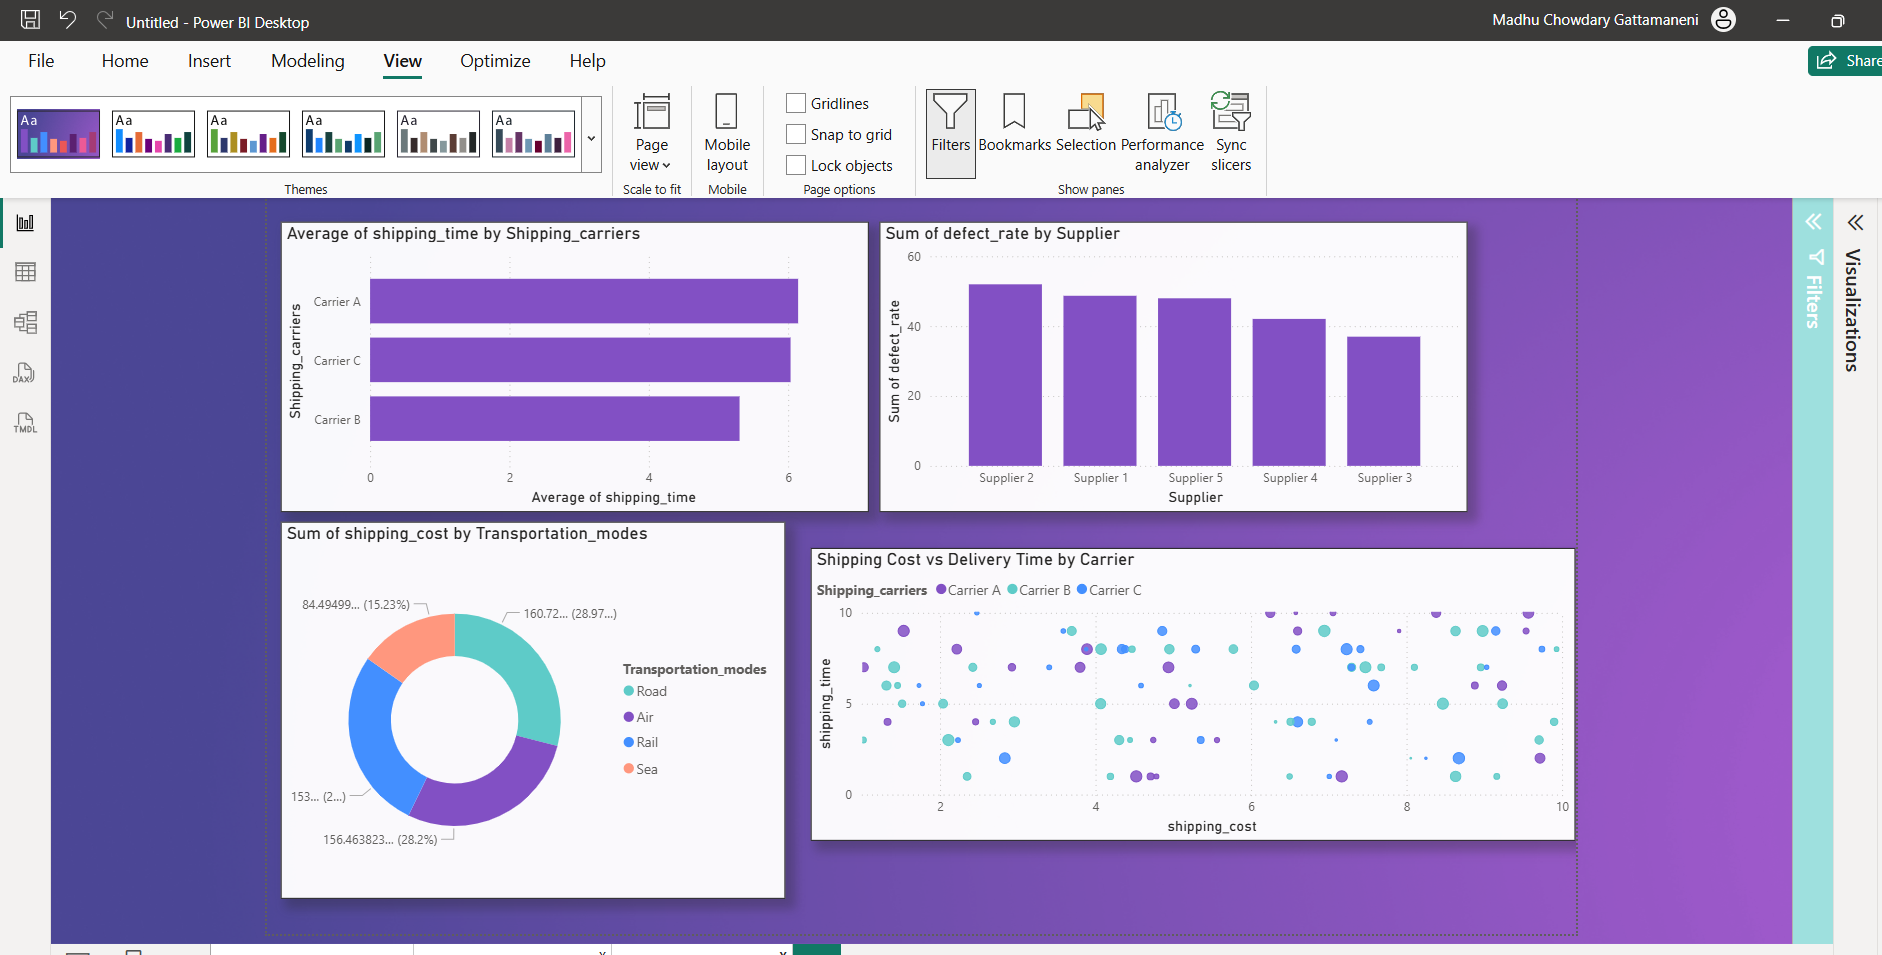

Layout of this report page (visuals, bound fields, positions):
{"tool":"powerbi","page":{"name":"Logistics&Shipping","canvas":[1280,720],"ordinal":2},"visuals":[{"type":"clusteredBarChart","fields":{"Category":["supply_chain_data.Shipping_carriers"],"Y":["Avg(supply_chain_data.shipping_time)"]},"box":[13.7,23.3,575,284],"z":0},{"type":"donutChart","fields":{"Y":["Sum(supply_chain_data.shipping_cost)"],"Category":["supply_chain_data.Transportation_modes"]},"box":[13.7,317,494,369.1],"z":1},{"type":"clusteredColumnChart","fields":{"Category":["supply_chain_data.Supplier"],"Y":["Sum(supply_chain_data.defect_rate)"]},"box":[599,23,575,284],"z":2},{"type":"scatterChart","title":"Shipping Cost vs Delivery Time by Carrier","fields":{"X":["supply_chain_data.shipping_cost"],"Y":["supply_chain_data.shipping_time"],"Size":["Sum(supply_chain_data.products_sold)"],"Series":["supply_chain_data.Shipping_carriers"]},"box":[531.9,342.4,748.4,286.1],"z":3}]}

Visuals, with their boxes on the page's 1280x720 design canvas (x1, y1, x2, y2). These are canvas units, not pixel positions in the 1882x955 screenshot, which may show the page scaled, cropped or inside an application window:
clusteredBarChart - supply_chain_data.Shipping_carriers x Avg(supply_chain_data.shipping_time): Rect(14, 23, 589, 307)
donutChart - Sum(supply_chain_data.shipping_cost) x supply_chain_data.Transportation_modes: Rect(14, 317, 508, 686)
clusteredColumnChart - supply_chain_data.Supplier x Sum(supply_chain_data.defect_rate): Rect(599, 23, 1174, 307)
"Shipping Cost vs Delivery Time by Carrier" scatterChart: Rect(532, 342, 1280, 628)
